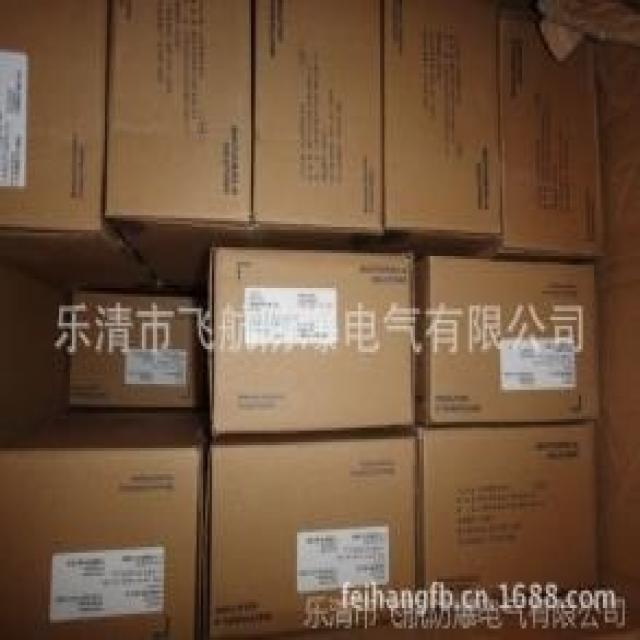box: (0, 413, 203, 640), (203, 433, 419, 640), (107, 0, 253, 291), (419, 419, 601, 640), (210, 247, 415, 439), (253, 0, 382, 253), (382, 0, 507, 259), (417, 256, 601, 428), (500, 12, 605, 253), (70, 291, 197, 407)
